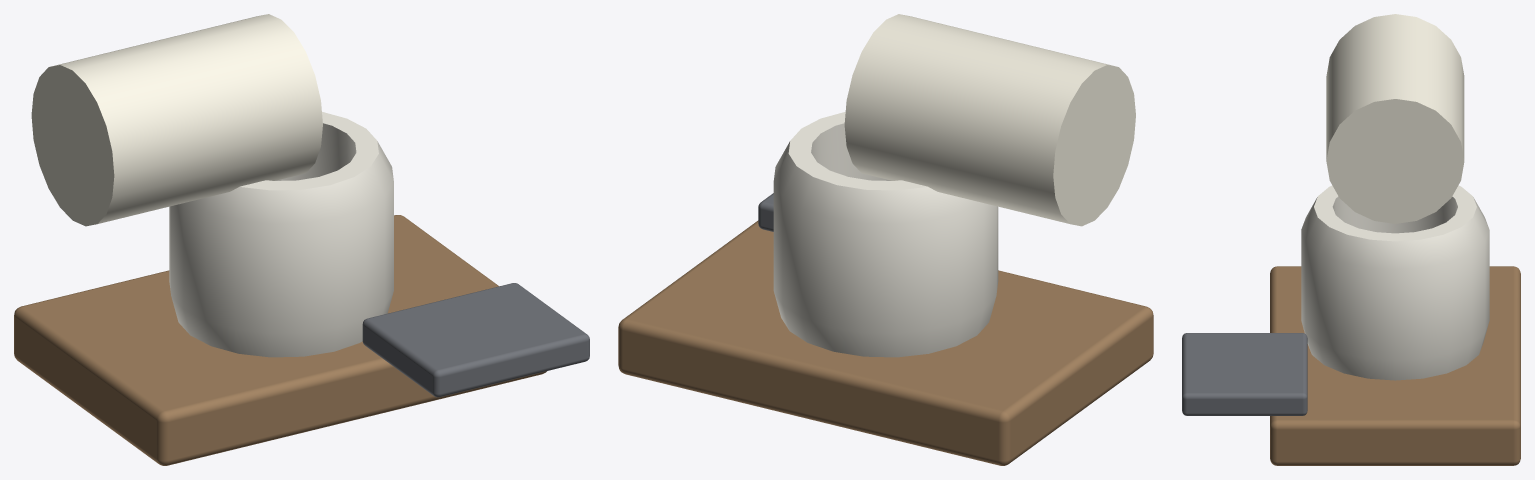
The model's file is marquetry-and-veneer-inlay-workshop-paper-tape-wetting-1cfae913__39102.glb.
The picture shows the model from 3 angles, left to right: view 1: azimuth 30°, elevation 25°; view 2: azimuth 150°, elevation 25°; view 3: azimuth 270°, elevation 25°; orthographic projection. The views are drawn at different scales.
Visible parts, largest first — view 1: paper-tape-wetting-dispenser; view 2: paper-tape-wetting-dispenser; view 3: paper-tape-wetting-dispenser.
Boxes of the visible parts, x1,y1,x2,y2 form: paper-tape-wetting-dispenser: (14, 14, 589, 465); paper-tape-wetting-dispenser: (618, 14, 1153, 465); paper-tape-wetting-dispenser: (1182, 14, 1520, 465).
Bounding box in the file's own units: 0.31 × 0.255 × 0.27.
